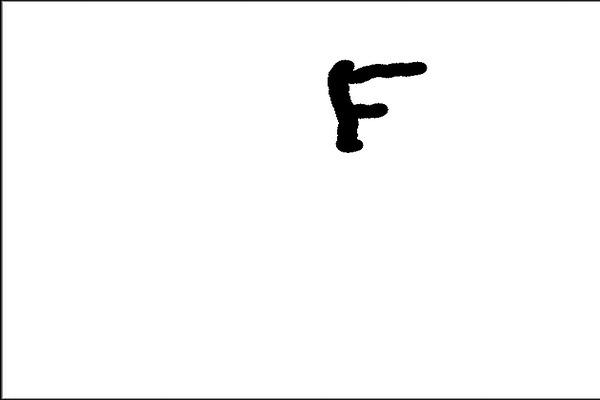F: (323, 53, 428, 158)
